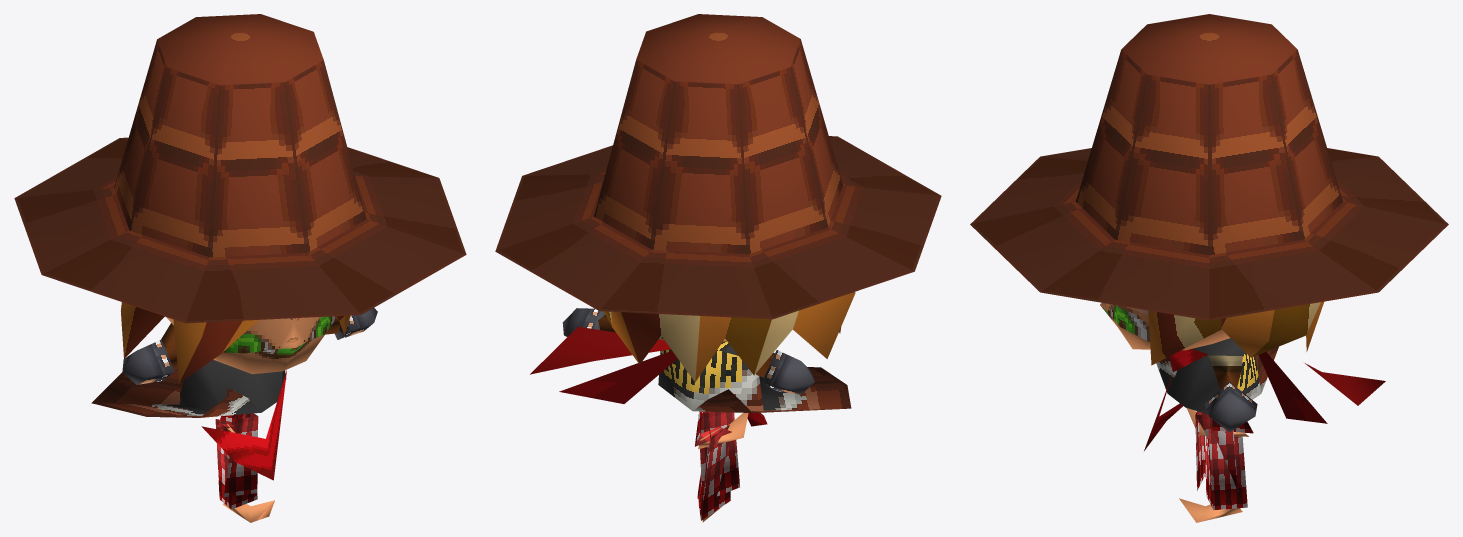
The picture shows the model from 3 angles, left to right: view 1: azimuth 30°, elevation 25°; view 2: azimuth 150°, elevation 25°; view 3: azimuth 270°, elevation 25°; orthographic projection.
Parts seen in each view (by area): view 1: npc1119; view 2: npc1119; view 3: npc1119.
Part boxes in pixels (left/top/right/bottom): npc1119: left=14, top=14, right=466, bottom=522; npc1119: left=495, top=14, right=941, bottom=522; npc1119: left=970, top=14, right=1448, bottom=522.
Bounding box in the file's own units: 1.66 × 1.92 × 1.75.
Materials: 7 (7 with a texture image).
